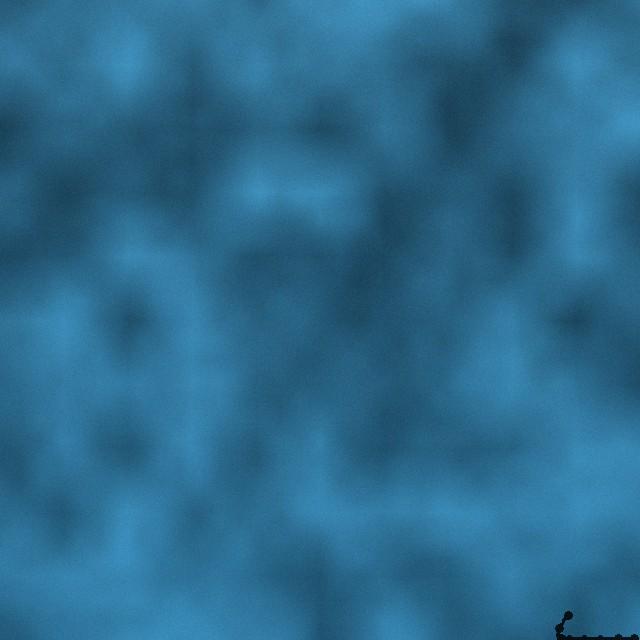crack: (552, 610, 639, 639)
